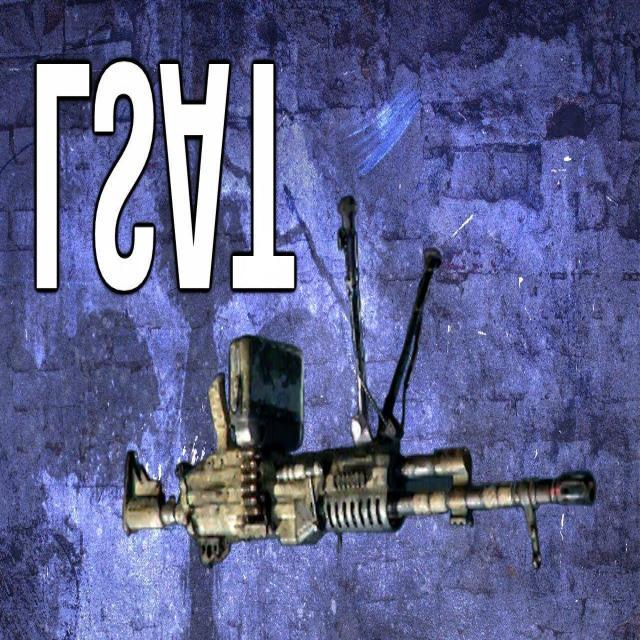weapon: (123, 195, 598, 572)
